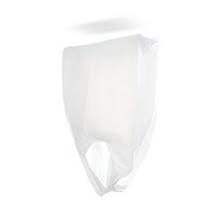plastic_bag: (55, 31, 165, 204)
